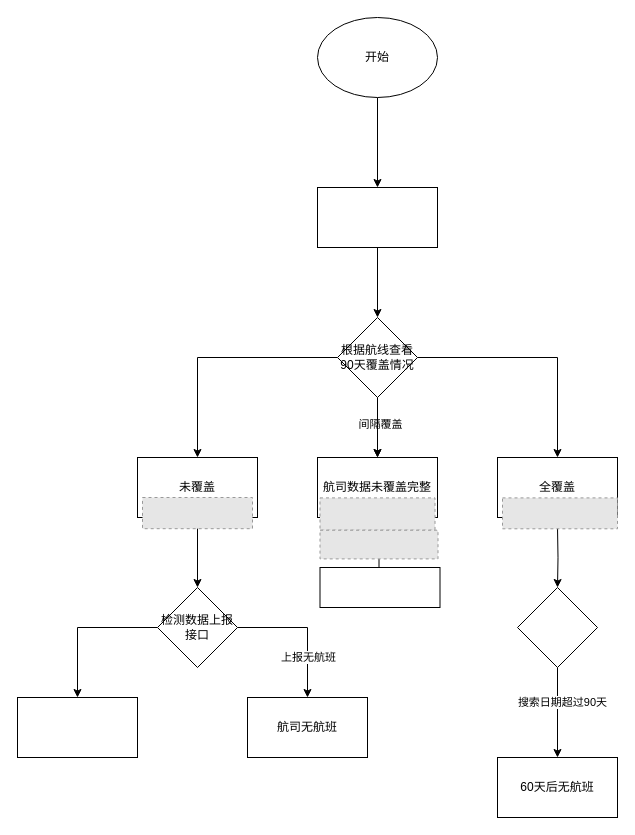
Some shapes in this 635 by 835 pixel diagram are drawn without their labels. Grey dashed boxes stand in for pictures. The shapes that lost their labels are listed below. From the top down, each one's centre as x and y in pixels, then its label:
At pixel 377 217: "PPX数据覆盖率".
At pixel 379 587: "爬虫历史数据 航班售罄".
At pixel 557 627: "检查搜索条件".
At pixel 77 727: "未上报".
